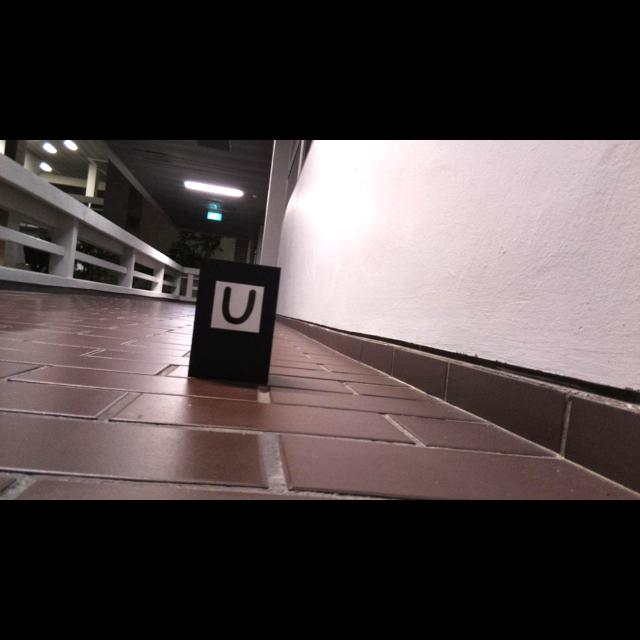U: (222, 287, 256, 325)
